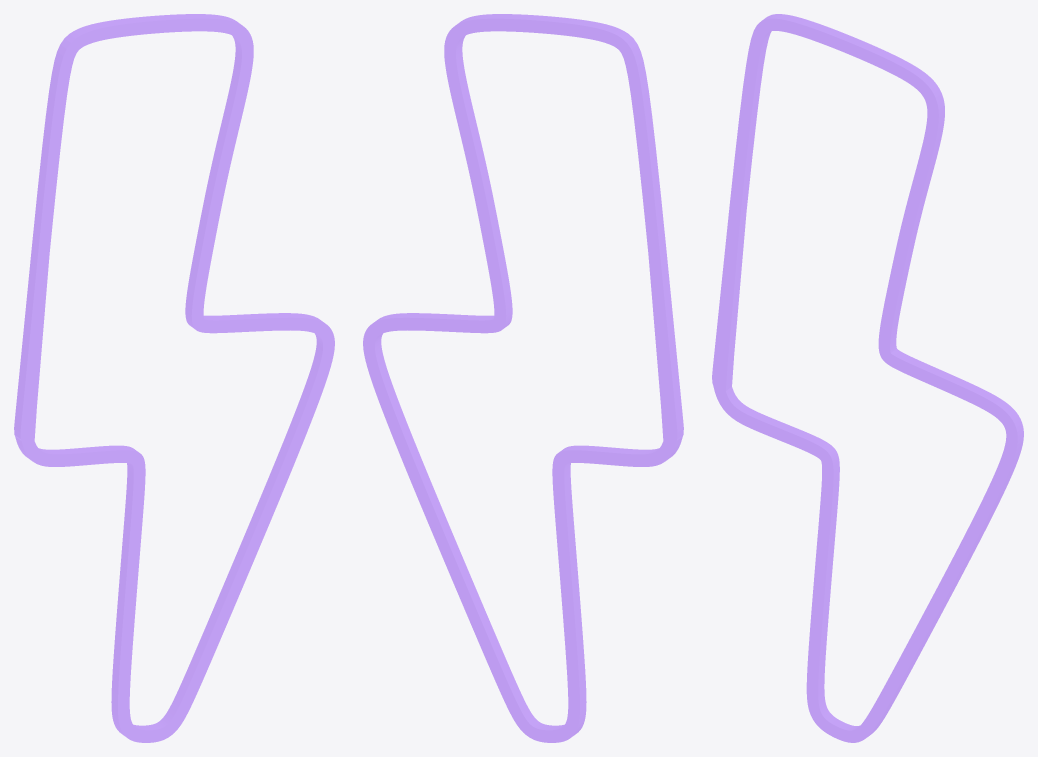
File: neon_blitz.glb
3 renders of one model, left to right at view 1: azimuth 30°, elevation 25°; view 2: azimuth 150°, elevation 25°; view 3: azimuth 330°, elevation 25°, orthographic. The views are drawn at different scales.
Parts seen in each view (by area): view 1: NurbsPath; view 2: NurbsPath; view 3: NurbsPath.
Boxes of the visible parts, x1,y1,x2,y2 form: NurbsPath: (14,14,334,742); NurbsPath: (363,14,683,742); NurbsPath: (712,14,1023,742).
Size of the model in its own units: 0.1892 by 0.4182 by 0.0067.
